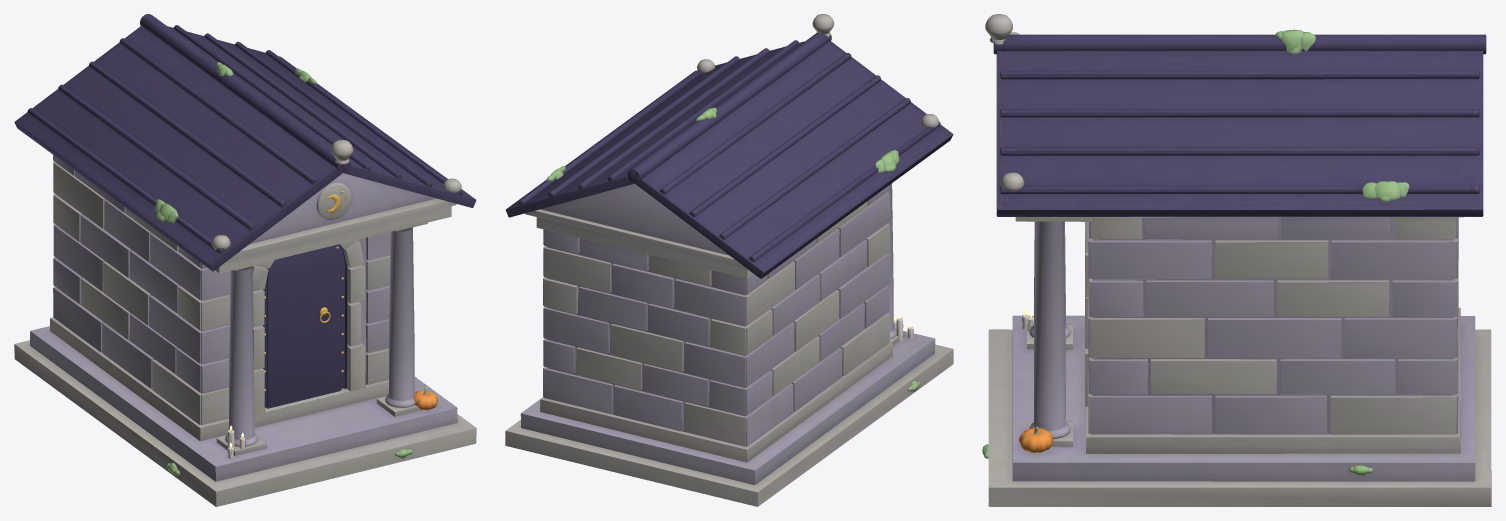
File: mausoleum.glb
3 views of the same model, side by side, from view 1: azimuth 30°, elevation 25°; view 2: azimuth 150°, elevation 25°; view 3: azimuth 270°, elevation 25° (orthographic). The views are drawn at different scales.
Visible parts, largest first — view 1: mausoleum_body, mausoleum_door; view 2: mausoleum_body; view 3: mausoleum_body.
Part boxes in pixels (bbox=[...]): mausoleum_body: bbox=[14, 14, 476, 506]; mausoleum_door: bbox=[262, 244, 344, 409]; mausoleum_body: bbox=[505, 14, 953, 506]; mausoleum_body: bbox=[982, 14, 1491, 506].
Bounding box in the file's own units: 2.88 × 3.39 × 3.8.
Materials: 3 (2 with a texture image).
